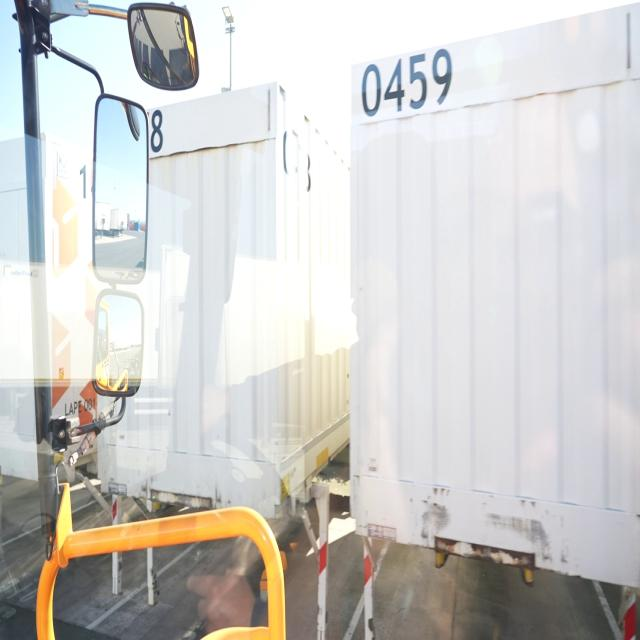Code: (358, 47, 454, 118)
